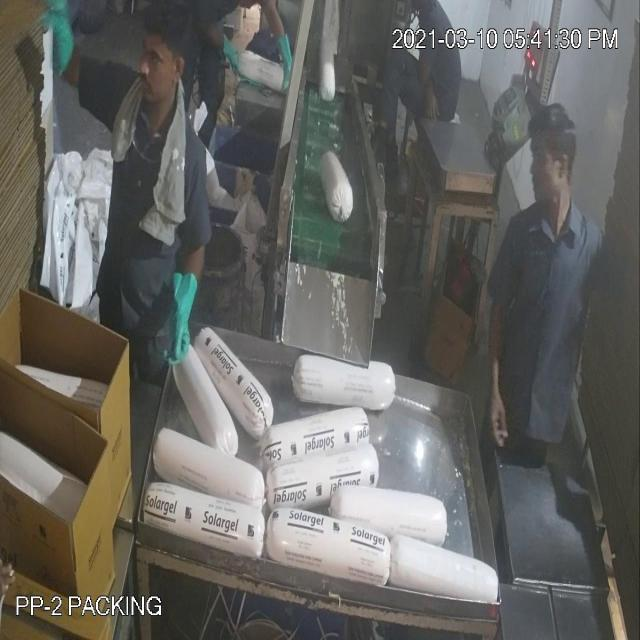gloves: (160, 248, 210, 393)
no-gloves: (474, 267, 516, 470)
